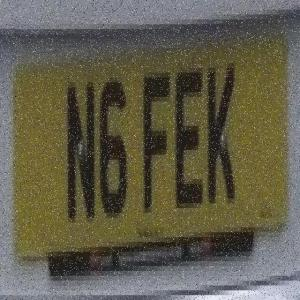Plate: (6, 34, 294, 262)
